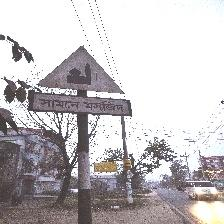Mosque in front: (33, 46, 130, 118)
